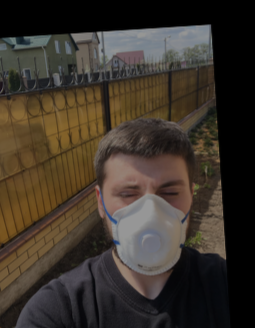with_mask: (106, 168, 192, 276)
